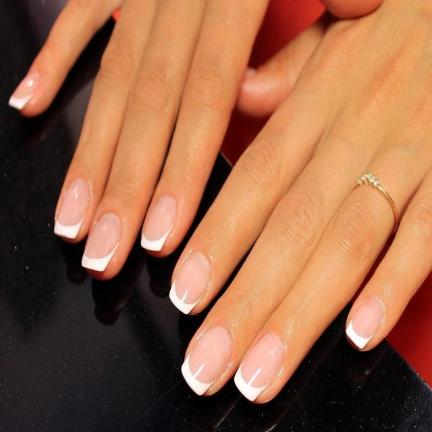Nail: (181, 327, 231, 396), (234, 333, 283, 402), (169, 253, 212, 315), (81, 213, 122, 271), (54, 178, 90, 238), (141, 196, 177, 251), (346, 300, 382, 348), (9, 73, 39, 109)
